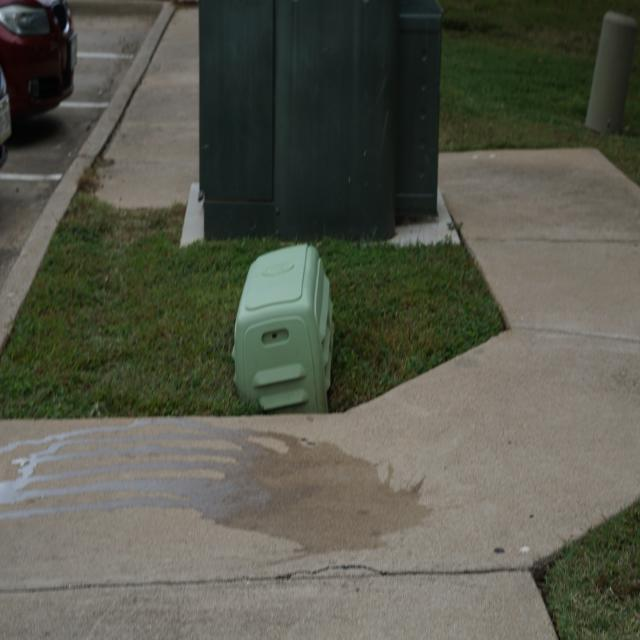Obstacle: (199, 0, 442, 239), (232, 244, 334, 413), (585, 11, 636, 133)
Road: (0, 0, 166, 291)
Sidewalk: (0, 151, 640, 638), (98, 8, 198, 205)
